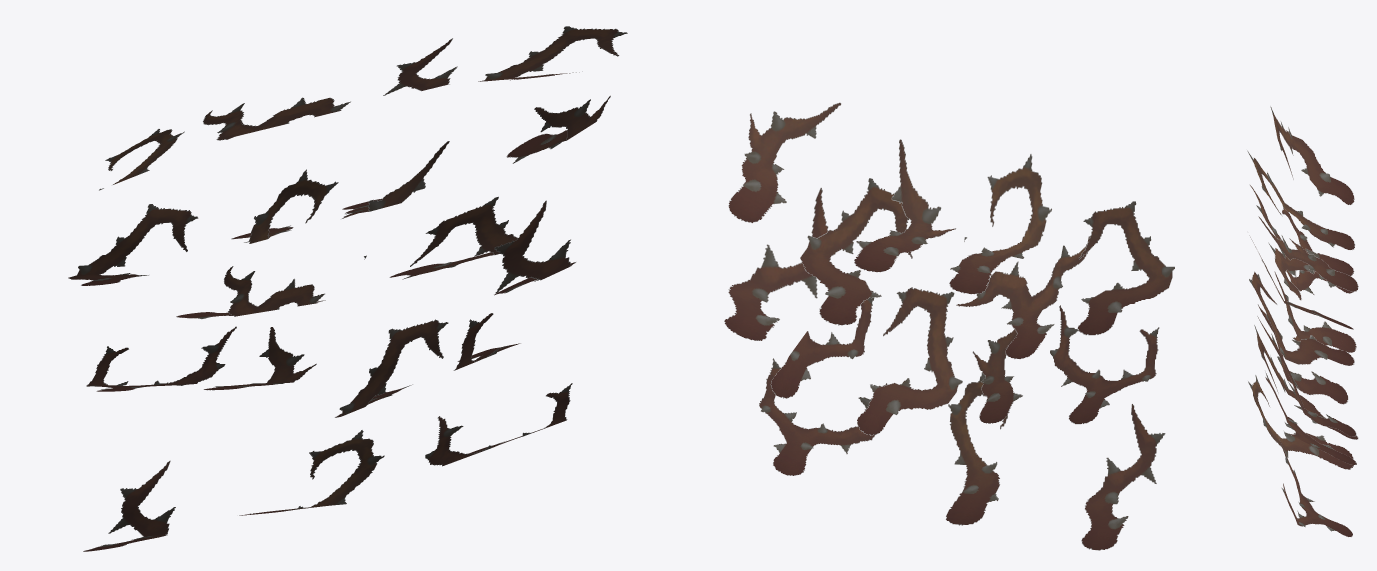
Rendered from vine_x3_01.glb.
3 renders of one model, left to right at view 1: azimuth 30°, elevation 25°; view 2: azimuth 150°, elevation 25°; view 3: azimuth 270°, elevation 25°, orthographic. The views are drawn at different scales.
Visible parts, largest first — view 1: thicket.vine_x3_01-MeshNodes["Cylinder06"]; view 2: thicket.vine_x3_01-MeshNodes["Cylinder06"]; view 3: thicket.vine_x3_01-MeshNodes["Cylinder06"].
Part boxes in pixels (x1,y1,x2,y2): thicket.vine_x3_01-MeshNodes["Cylinder06"]: (68,26,627,551); thicket.vine_x3_01-MeshNodes["Cylinder06"]: (724,102,1174,550); thicket.vine_x3_01-MeshNodes["Cylinder06"]: (1247,106,1358,537).
Bounding box in the file's own units: 4.05 × 3.5 × 1.04.
1 material, 1 textured.
